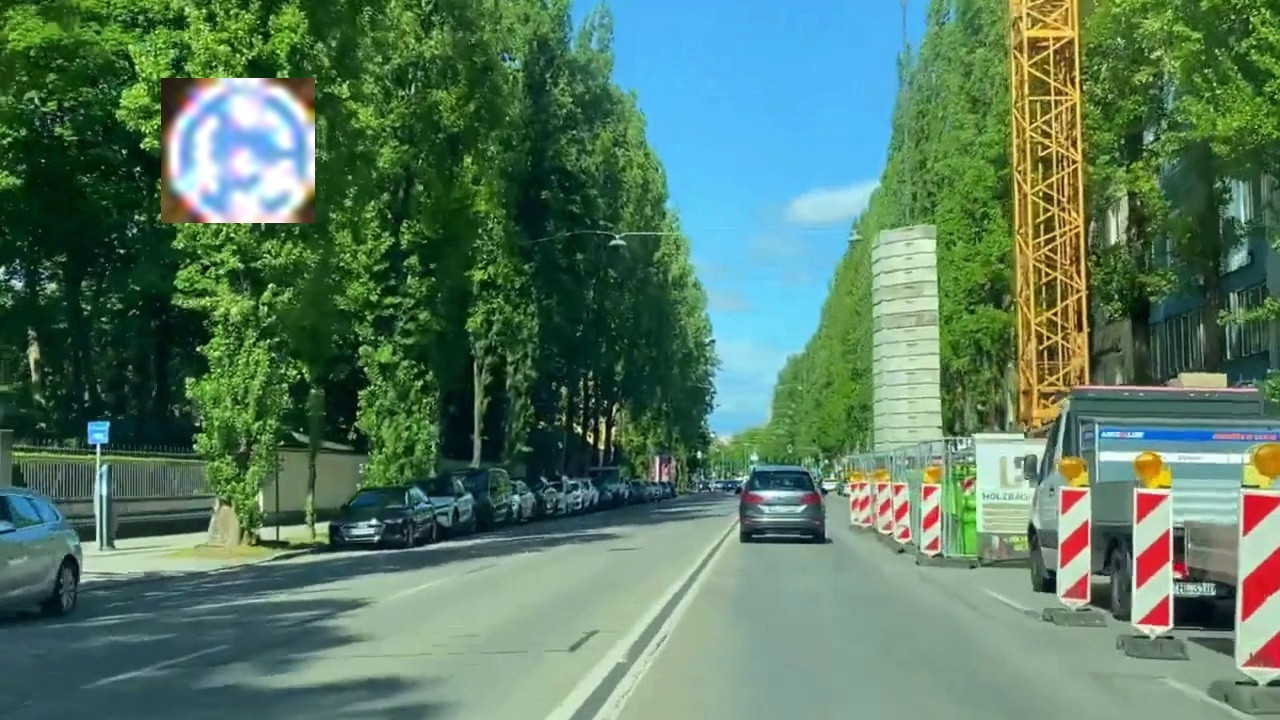Roundabout: (161, 78, 315, 223)
